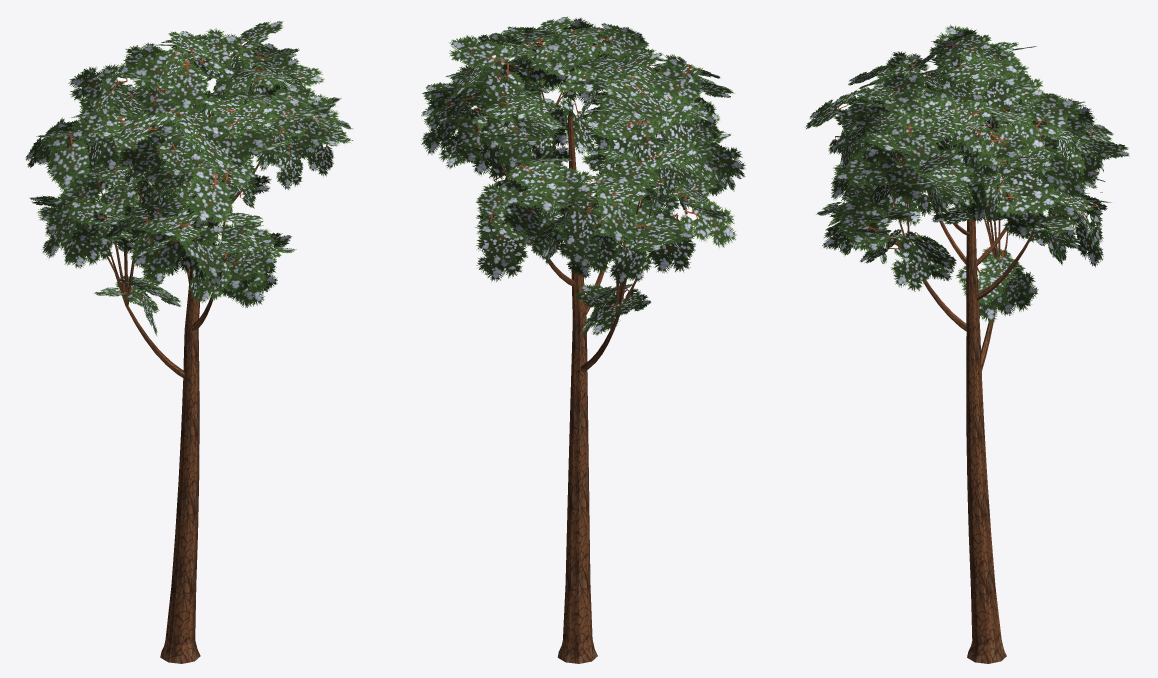
The model's file is w_pine1.glb.
The picture shows the model from 3 angles, left to right: view 1: azimuth 30°, elevation 25°; view 2: azimuth 150°, elevation 25°; view 3: azimuth 270°, elevation 25°; orthographic projection.
Parts seen in each view (by area): view 1: w_pine1; view 2: w_pine1; view 3: w_pine1.
Boxes of the visible parts, bbox=[...] form: w_pine1: bbox=[25, 21, 353, 663]; w_pine1: bbox=[421, 16, 745, 663]; w_pine1: bbox=[805, 24, 1129, 663].
Size of the model in its own units: 8.79 by 16.89 by 8.77.
Materials: 2 (2 with a texture image).
